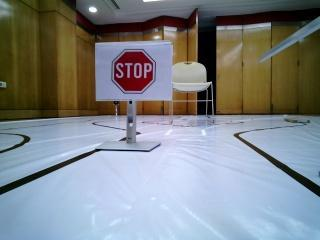stop: (100, 45, 167, 97)
